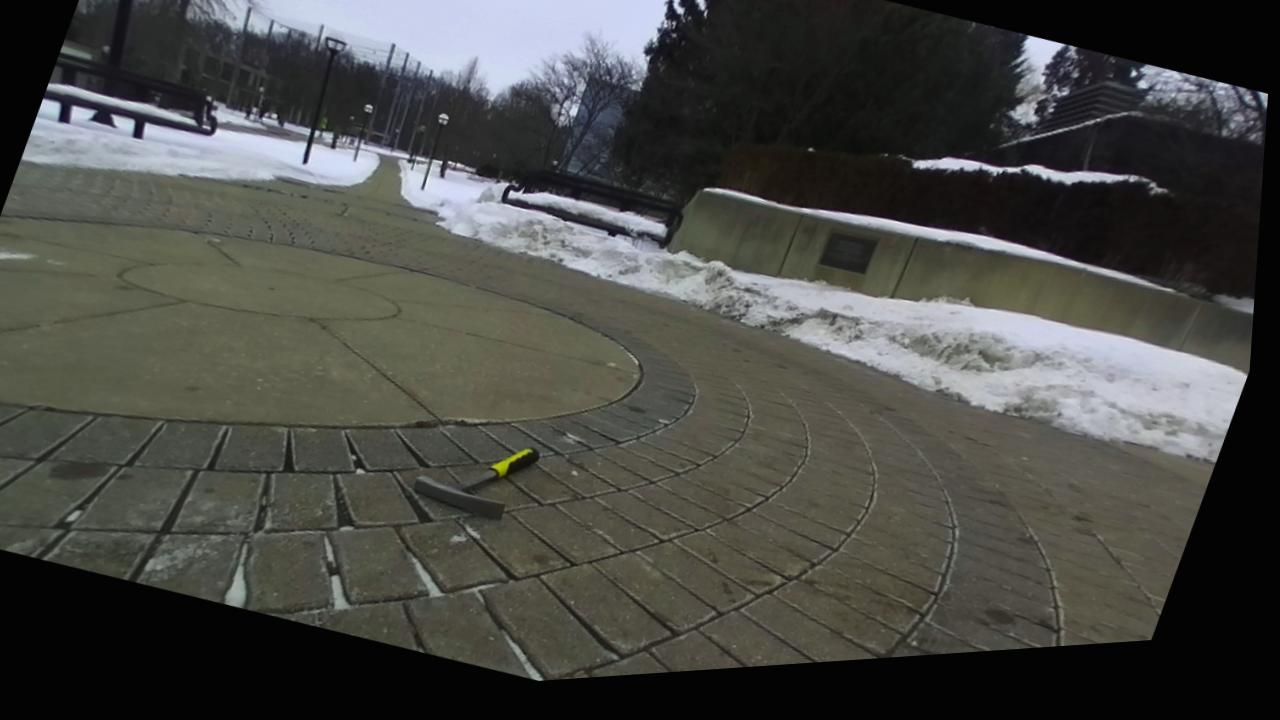pick: (413, 449, 539, 518)
